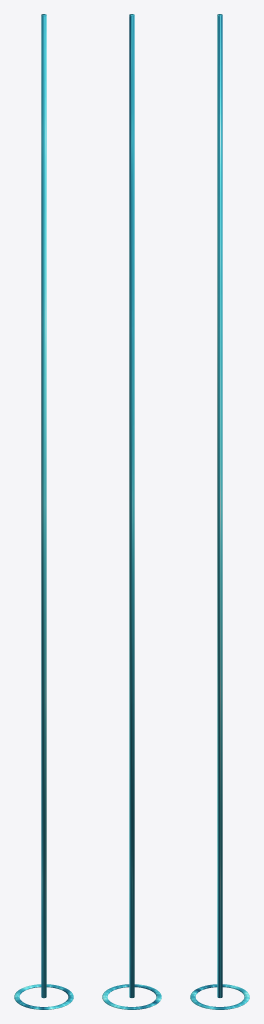
The model's file is checkpointMarker.obj.
The picture shows the model from 3 angles, left to right: view 1: azimuth 90°, elevation 25°; view 2: azimuth 150°, elevation 25°; view 3: azimuth 330°, elevation 25°; orthographic projection.
Visible parts, largest first — view 1: Cylinder, Torus.001; view 2: Cylinder, Torus.001; view 3: Cylinder, Torus.001.
Boxes of the visible parts, <box> form: Cylinder: <box>41,14,46,998</box>; Torus.001: <box>14,984,73,1009</box>; Cylinder: <box>129,14,134,997</box>; Torus.001: <box>102,984,161,1009</box>; Cylinder: <box>217,14,222,997</box>; Torus.001: <box>190,984,249,1009</box>.
Bounding box in the file's own units: 22 × 400 × 22.
